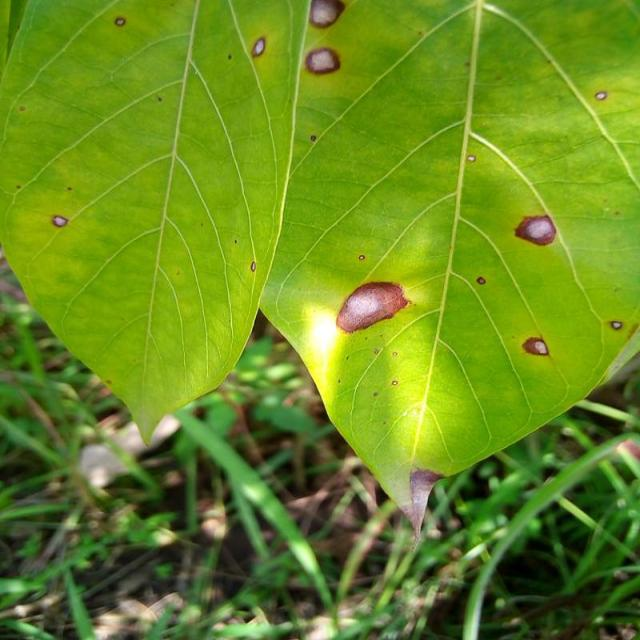cassava leaf: (257, 0, 638, 545), (0, 0, 311, 446)
